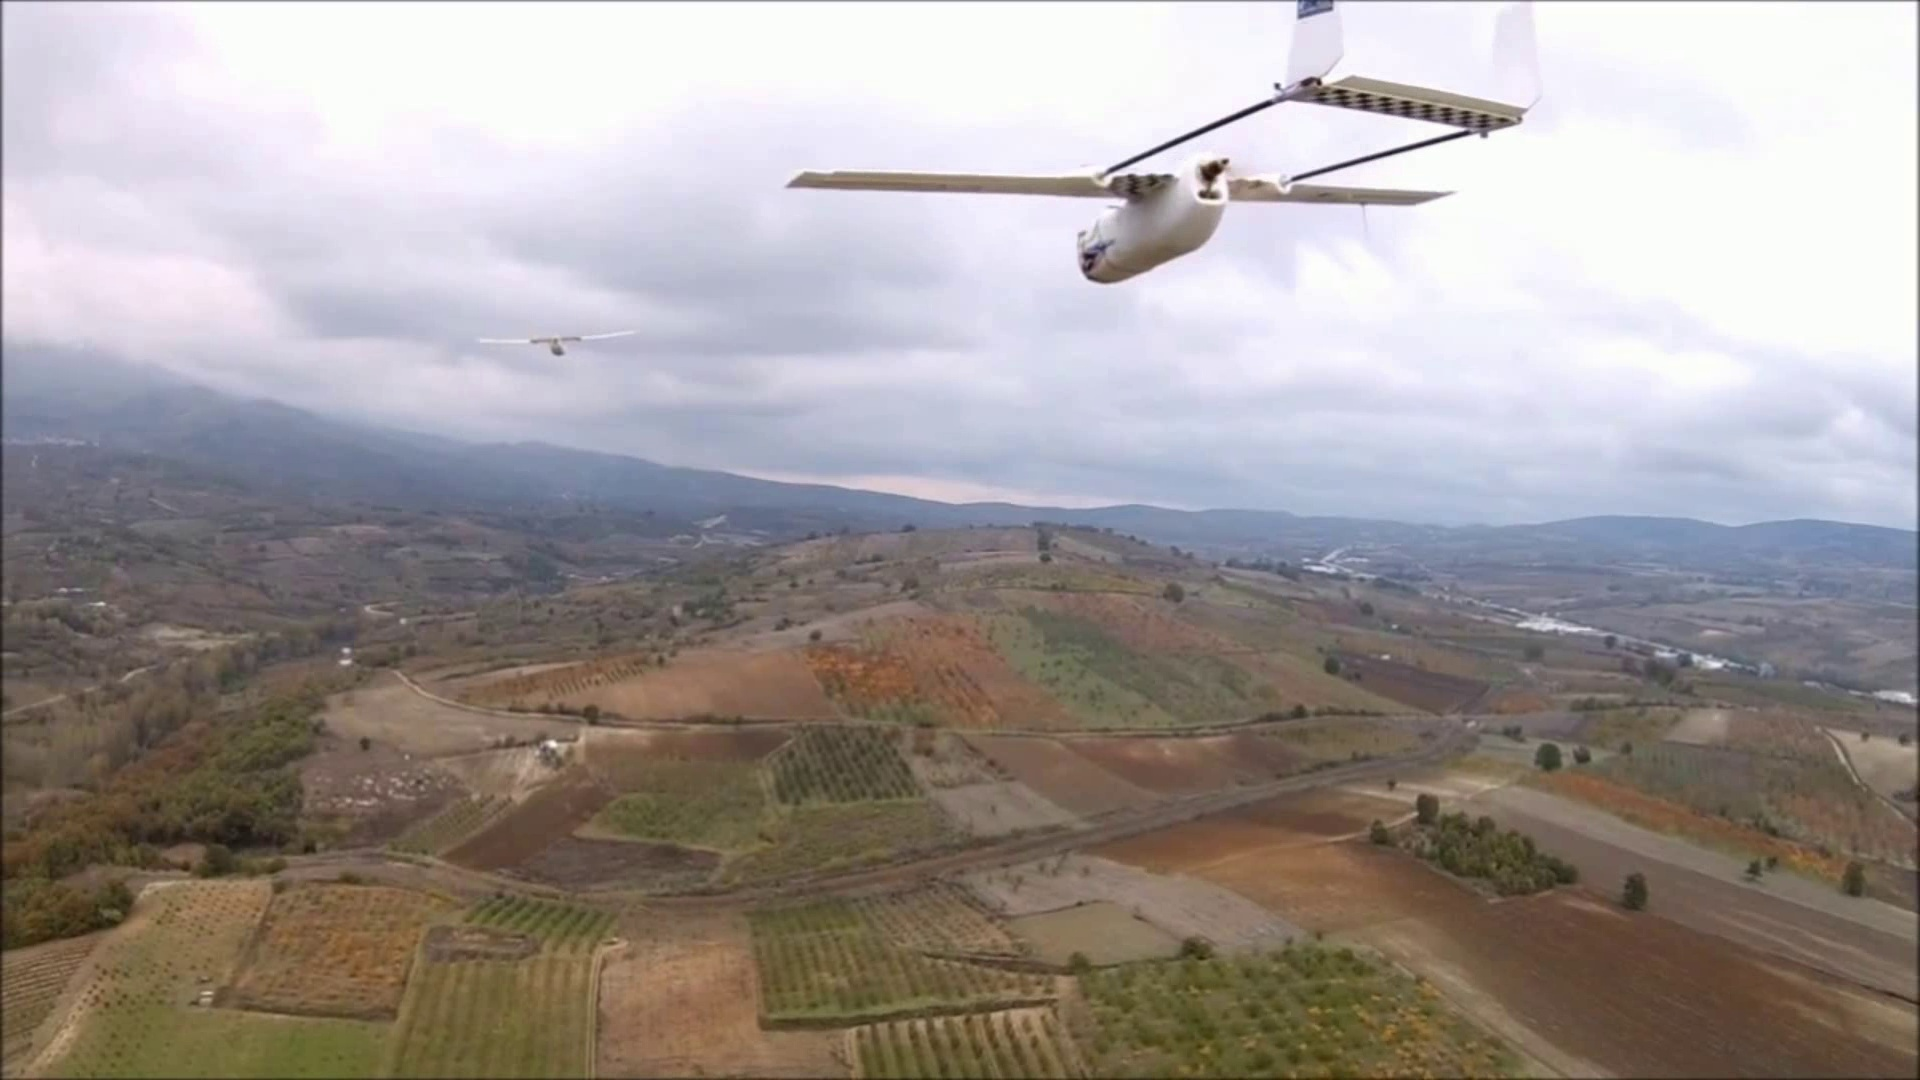airplane: (786, 4, 1542, 284)
